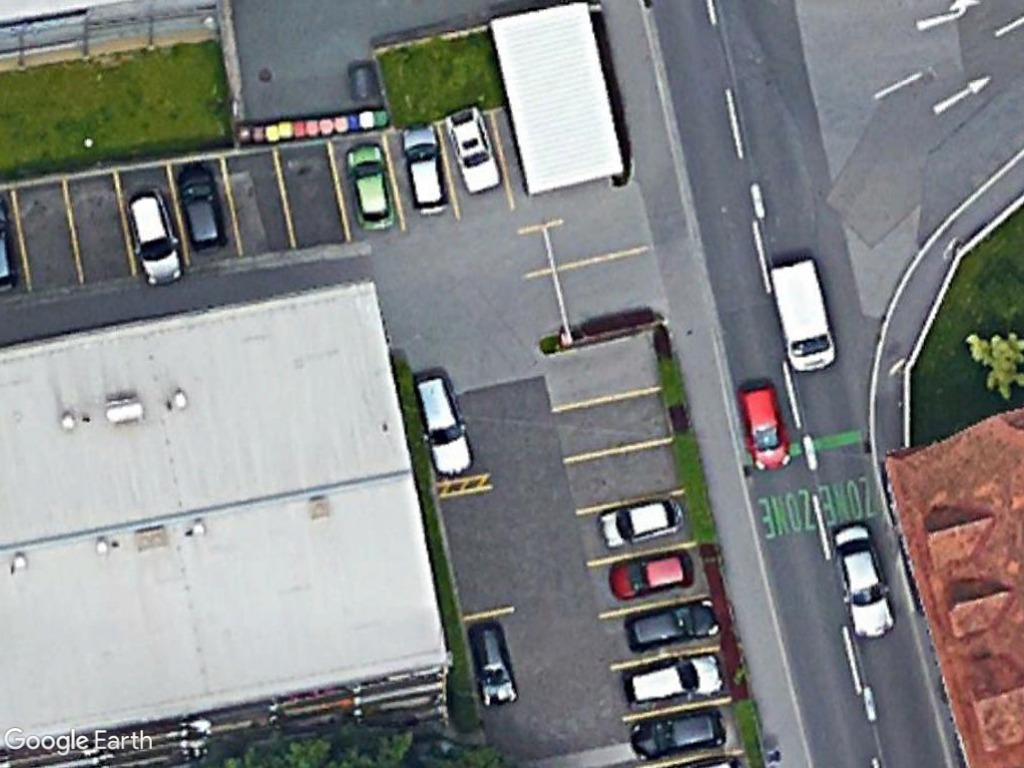car: (832, 519, 904, 646), (409, 367, 477, 481), (118, 182, 186, 290), (620, 648, 727, 712), (621, 594, 725, 658), (625, 703, 731, 765), (444, 100, 508, 200), (335, 137, 398, 237), (594, 489, 692, 553), (733, 379, 797, 475), (606, 543, 699, 608), (173, 160, 233, 259), (400, 115, 455, 221), (465, 617, 524, 713)
van: (766, 256, 845, 378)
